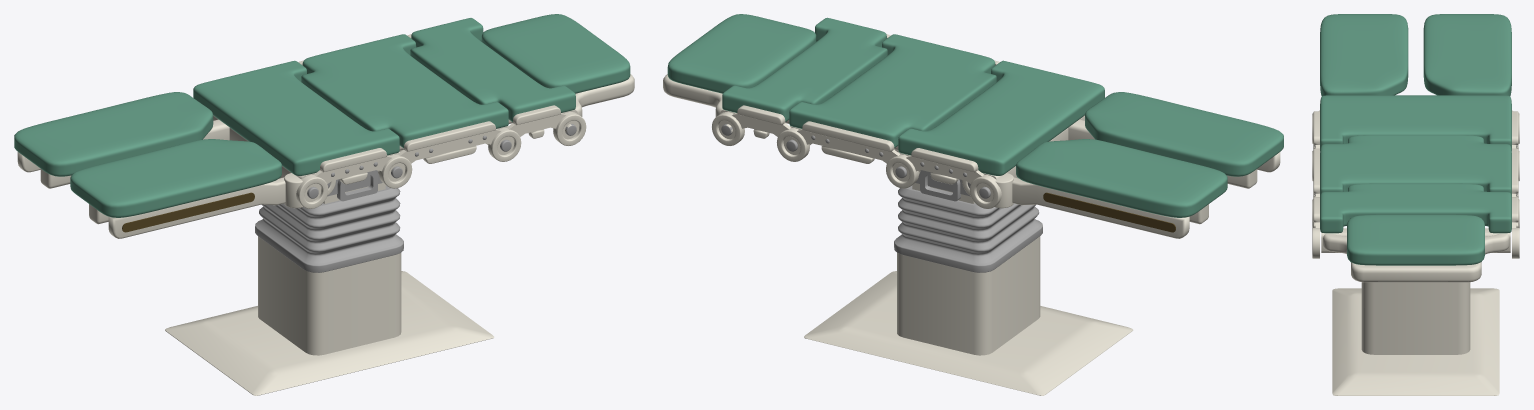
Rendered from surgical table.fbx.
3 renders of one model, left to right at view 1: azimuth 30°, elevation 25°; view 2: azimuth 150°, elevation 25°; view 3: azimuth 270°, elevation 25°, orthographic. The views are drawn at different scales.
Visible parts, largest first — view 1: Mesa_Cirugias_base, Mesa_Cirugias_cabezal; view 2: Mesa_Cirugias_base, Mesa_Cirugias_cabezal; view 3: Mesa_Cirugias_base, Mesa_Cirugias_cabezal.
Boxes of the visible parts, <box> form: Mesa_Cirugias_base: <box>14,18,586,395</box>; Mesa_Cirugias_cabezal: <box>481,14,634,116</box>; Mesa_Cirugias_base: <box>712,17,1283,395</box>; Mesa_Cirugias_cabezal: <box>663,14,816,116</box>; Mesa_Cirugias_base: <box>1312,14,1519,395</box>; Mesa_Cirugias_cabezal: <box>1323,214,1509,282</box>.
Size of the model in its own units: 2600 by 1058 by 940.
